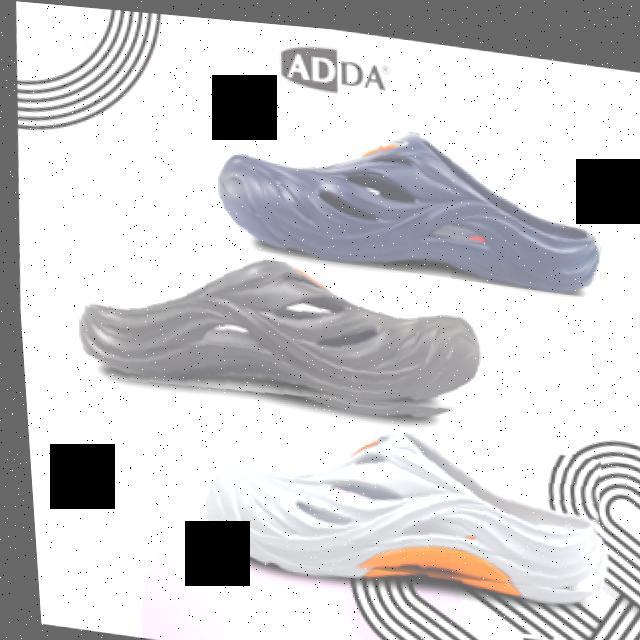shoe: (190, 401, 604, 598), (68, 231, 486, 425), (205, 99, 605, 289)
